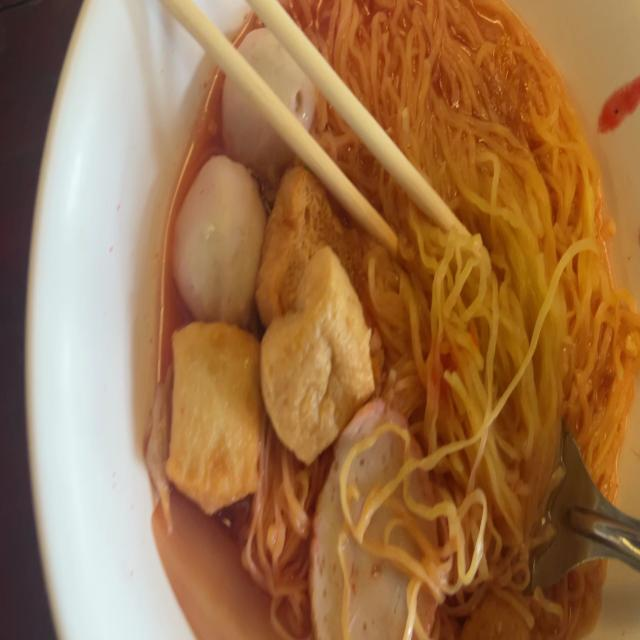crunchy_squid: (144, 486, 298, 639)
egg_noodles: (305, 0, 639, 639)
fish_ball: (166, 150, 269, 326), (217, 18, 317, 177)
fried_fish_balls: (306, 391, 446, 640)
fried_tofu: (262, 163, 356, 350), (266, 264, 360, 432)
noodle: (157, 2, 640, 640)
tofu: (174, 332, 263, 504)
